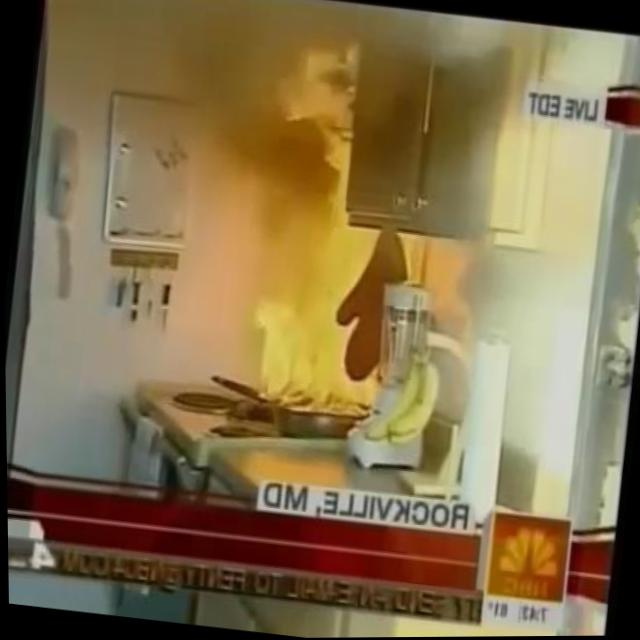fire: (243, 38, 426, 414)
